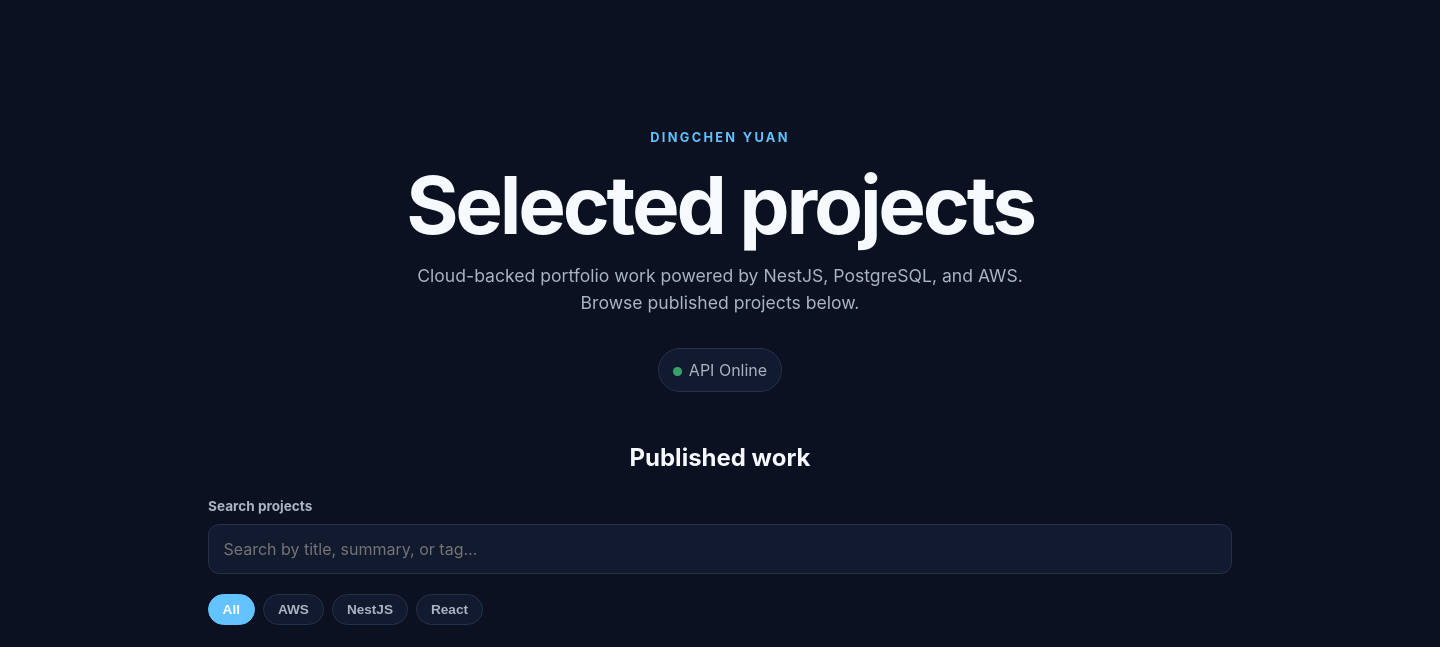
Test case: App › filters the home page project list by tag
Step 1. Click the button "React" → [450, 610], box [416,594,483,625]
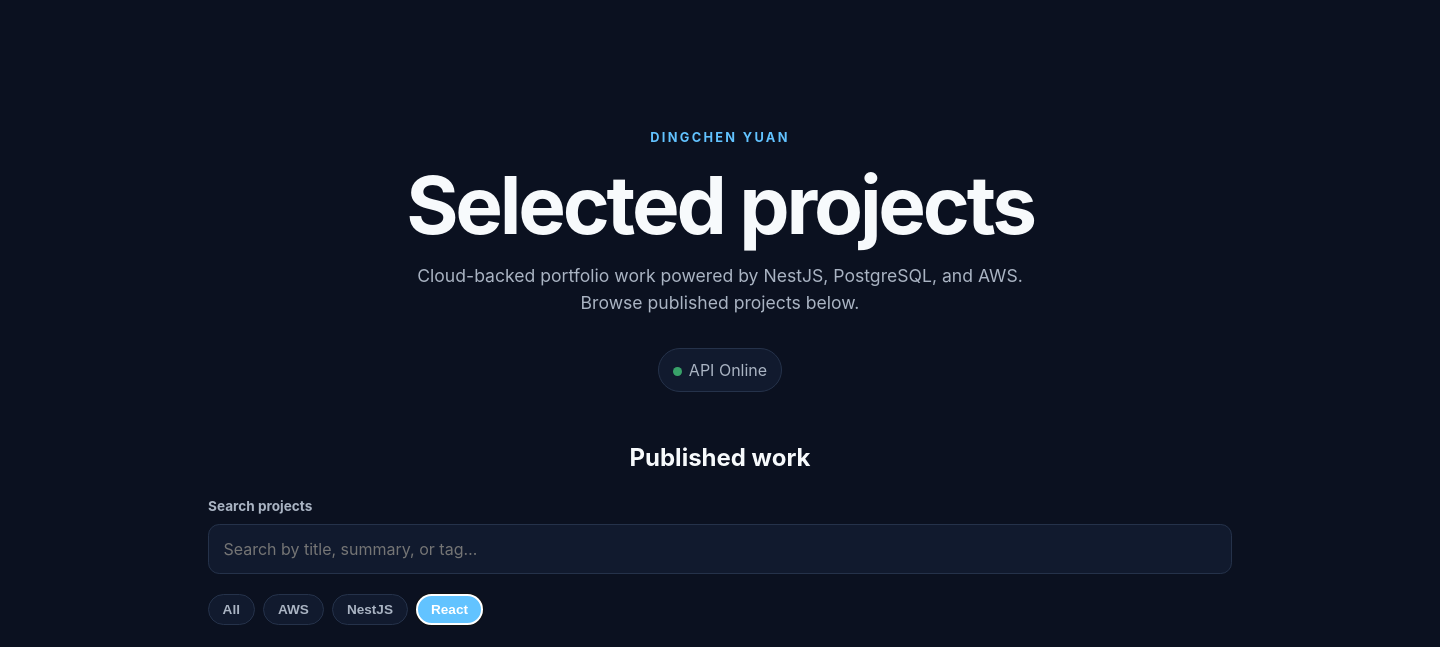
Step 2. Click the button "All" → [231, 610], box [208,594,255,625]
(page scrolled)
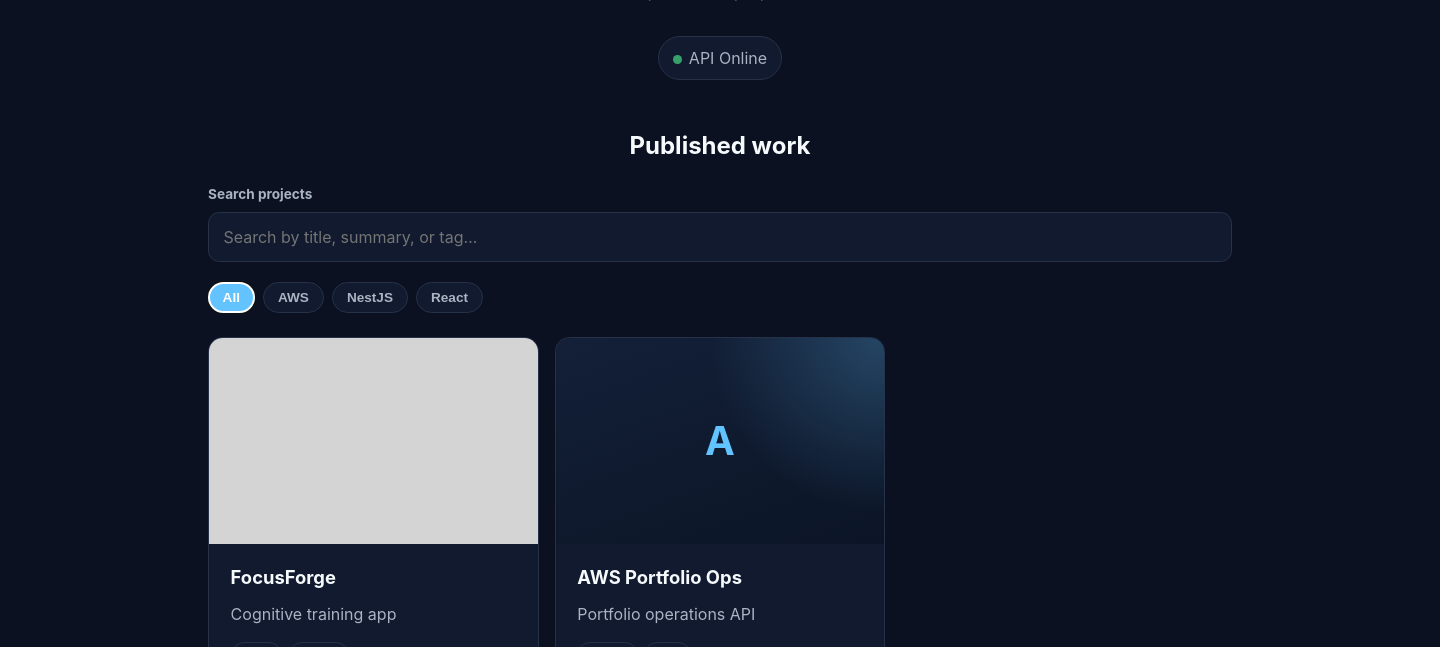
Check: the heading "AWS Portfolio Ops" is shown, box [577,566,742,588]
